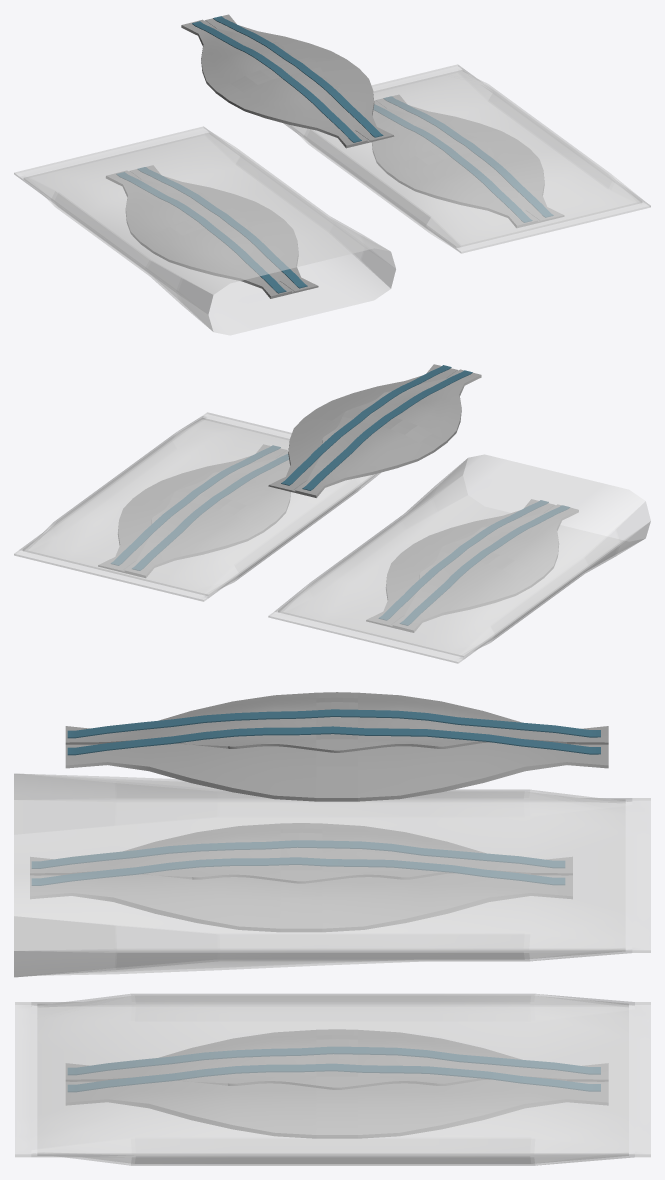
The model's file is MouthMaskAndPackage.fbx.
3 renders of one model, top to bottom at view 1: azimuth 30°, elevation 25°; view 2: azimuth 150°, elevation 25°; view 3: azimuth 270°, elevation 25°, orthographic. The views are drawn at different scales.
Visible parts, largest first — view 1: pCube28, pCube30, pCube36, pCube48, pCube43, pCube34, pCube47, pCube42, pCube39, pCube38, pCube46, pCube45 (+2 smaller); view 2: pCube28, pCube30, pCube36, pCube48, pCube43, pCube34, pCube42, pCube47, pCube38, pCube39, pCube40, pCube45 (+2 smaller); view 3: pCube28, pCube30, pCube34, pCube47, pCube42, pCube36, pCube43, pCube48, pCube38, pCube39, pCube45, pCube46 (+5 smaller).
Part boxes in pixels (x1,y1,x2,y2): pCube28: (14, 126, 395, 335); pCube30: (283, 64, 650, 253); pCube36: (181, 19, 367, 146); pCube48: (106, 170, 291, 297); pCube43: (372, 101, 537, 226); pCube34: (205, 14, 393, 141); pCube47: (130, 165, 318, 292); pCube42: (376, 95, 563, 221); pCube39: (192, 21, 361, 142); pCube38: (213, 16, 383, 137); pCube46: (116, 172, 286, 293); pCube45: (138, 167, 307, 288); pCube28: (268, 454, 650, 663); pCube30: (14, 412, 380, 601); pCube36: (295, 369, 481, 496); pCube48: (393, 504, 578, 631); pCube43: (125, 451, 290, 576); pCube34: (268, 364, 457, 491); pCube42: (98, 444, 286, 571); pCube47: (366, 499, 553, 626); pCube38: (281, 365, 451, 485); pCube39: (302, 370, 472, 490); pCube40: (111, 445, 280, 565); pCube45: (379, 500, 548, 620); pCube28: (14, 773, 650, 977); pCube30: (15, 993, 650, 1165); pCube34: (65, 742, 608, 800); pCube47: (30, 873, 572, 930); pCube42: (66, 1080, 608, 1136); pCube36: (65, 692, 608, 752); pCube43: (66, 1029, 608, 1089); pCube48: (30, 823, 572, 883); pCube38: (67, 726, 600, 755); pCube39: (67, 709, 600, 738); pCube45: (32, 857, 564, 885); pCube46: (32, 840, 564, 868).
Bounding box in the file's own units: 0.4525 × 0.1559 × 0.3416.
